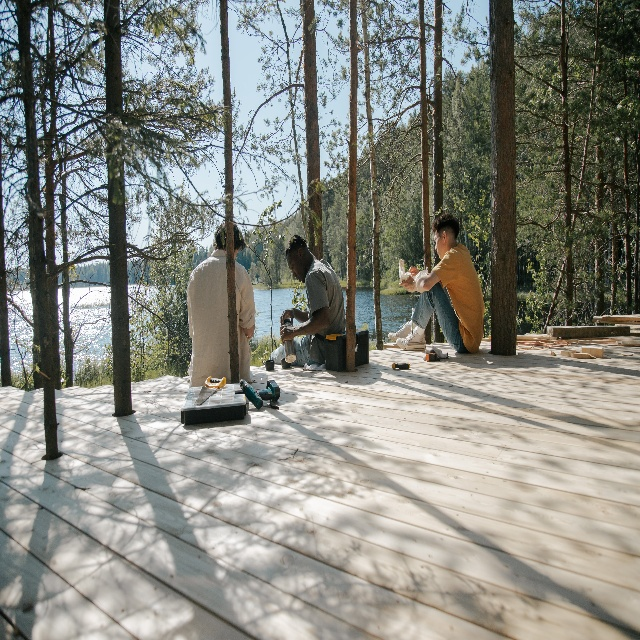Guantes: (422, 345, 449, 361), (302, 362, 327, 372)
Sin_guantes: (279, 325, 295, 345), (398, 276, 415, 293), (279, 307, 294, 326), (408, 265, 419, 276)
